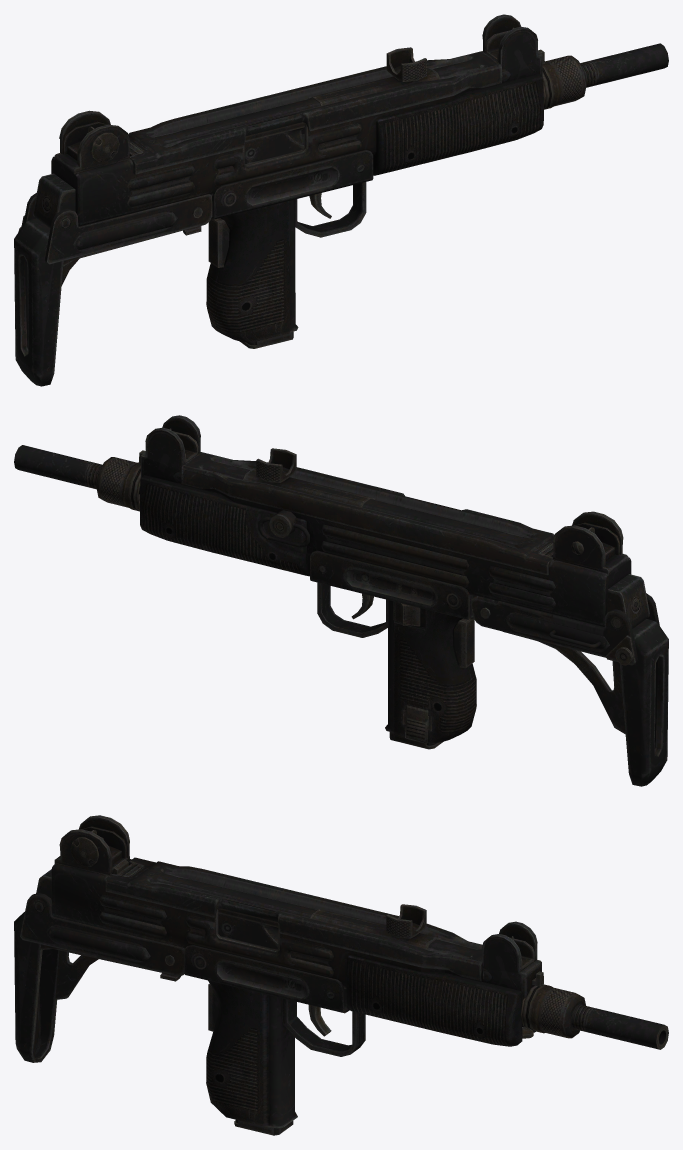
File: Uzi.fbx
The picture shows the model from 3 angles, top to bottom: view 1: azimuth 30°, elevation 25°; view 2: azimuth 150°, elevation 25°; view 3: azimuth 330°, elevation 25°; orthographic projection.
Parts seen in each view (by area): view 1: node_id7; view 2: node_id7; view 3: node_id7.
Part boxes in pixels (x1,y1,x2,y2): node_id7: (14, 14, 668, 386); node_id7: (14, 415, 668, 786); node_id7: (14, 815, 668, 1128).
Size of the model in its own units: 1.32 by 0.512 by 0.1388.
2 materials, 2 textured.
